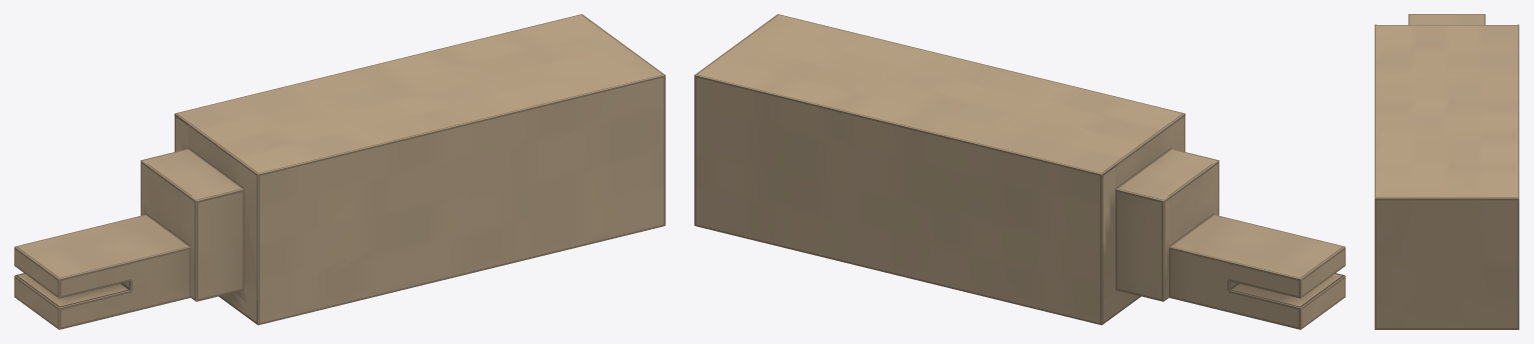
The picture shows the model from 3 angles, left to right: view 1: azimuth 30°, elevation 25°; view 2: azimuth 150°, elevation 25°; view 3: azimuth 270°, elevation 25°; orthographic projection. The views are drawn at different scales.
Visible parts, largest first — view 1: part-b; view 2: part-b; view 3: part-b.
Boxes of the visible parts, <box> form: part-b: <box>14,14,665,329</box>; part-b: <box>694,14,1345,329</box>; part-b: <box>1374,14,1519,329</box>.
Bounding box in the file's own units: 0.4908 × 0.1211 × 0.1208.
